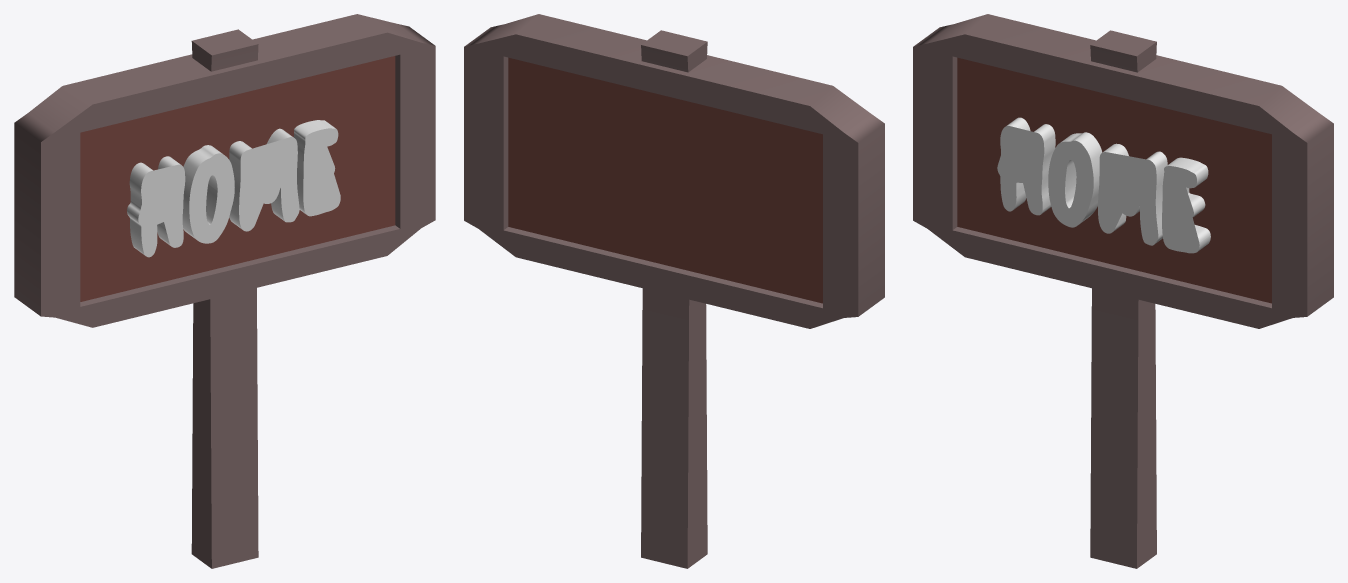
The model's file is leader-h.fbx.
3 views of the same model, side by side, from view 1: azimuth 30°, elevation 25°; view 2: azimuth 150°, elevation 25°; view 3: azimuth 330°, elevation 25° (orthographic).
Parts seen in each view (by area): view 1: sign2; view 2: sign2; view 3: sign2.
Part boxes in pixels (x1,y1,x2,y2): sign2: (14,14,435,568); sign2: (464,14,884,568); sign2: (913,14,1333,568).
Bounding box in the file's own units: 4.78 × 5.94 × 0.6949.
